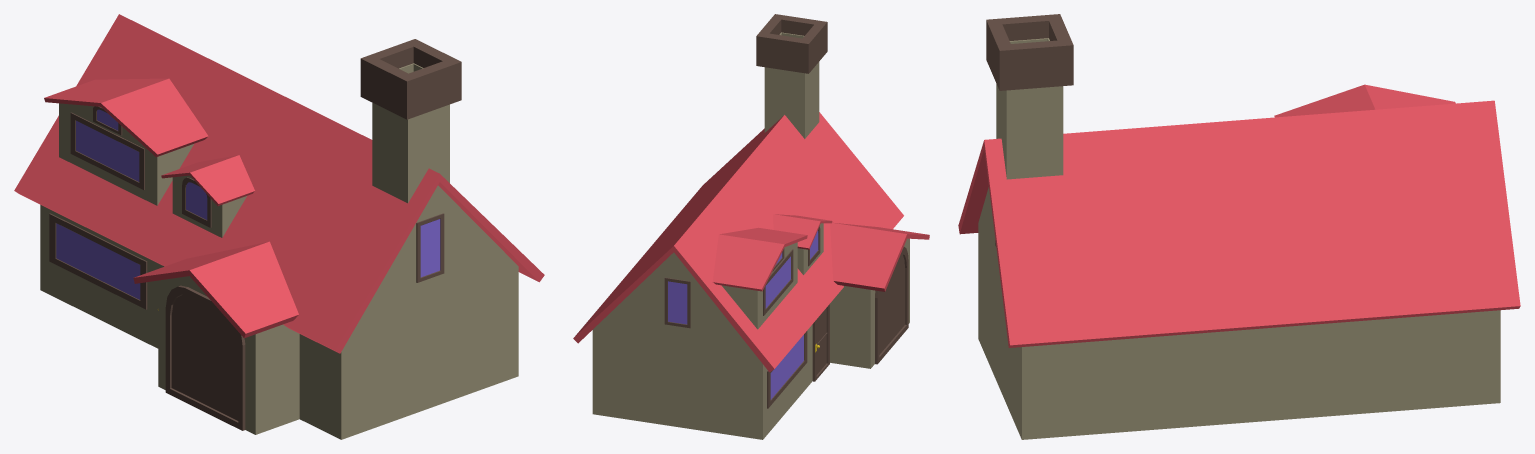
Rendered from CALLE2_CASA1_021.fbx.
3 renders of one model, left to right at view 1: azimuth 30°, elevation 25°; view 2: azimuth 150°, elevation 25°; view 3: azimuth 270°, elevation 25°, orthographic. The views are drawn at different scales.
Parts seen in each view (by area): view 1: CASA1.021; view 2: CASA1.021; view 3: CASA1.021.
Boxes of the visible parts, box(x1,y1,x2,y2) form: CASA1.021: box(14, 14, 544, 439); CASA1.021: box(573, 14, 929, 439); CASA1.021: box(958, 14, 1520, 439).
Size of the model in its own units: 732 by 734 by 1055.
